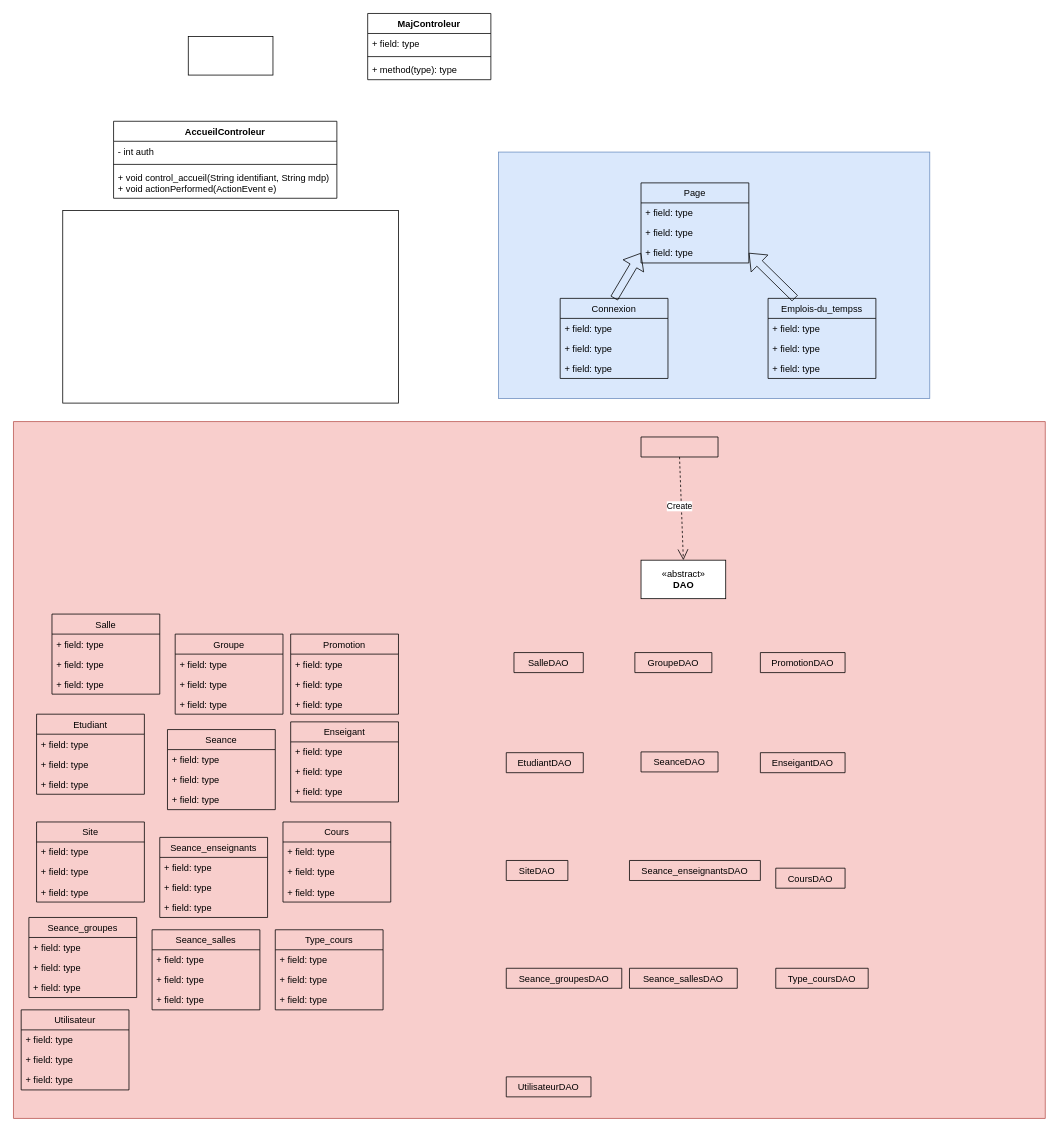
Image size: 1059x1132. Some labels were removed from this diagram. The centre of each missing label's shape, as x and y in pixels:
FactoryDAO: [679,446]
«Abstract» Controleur: [230,55]
